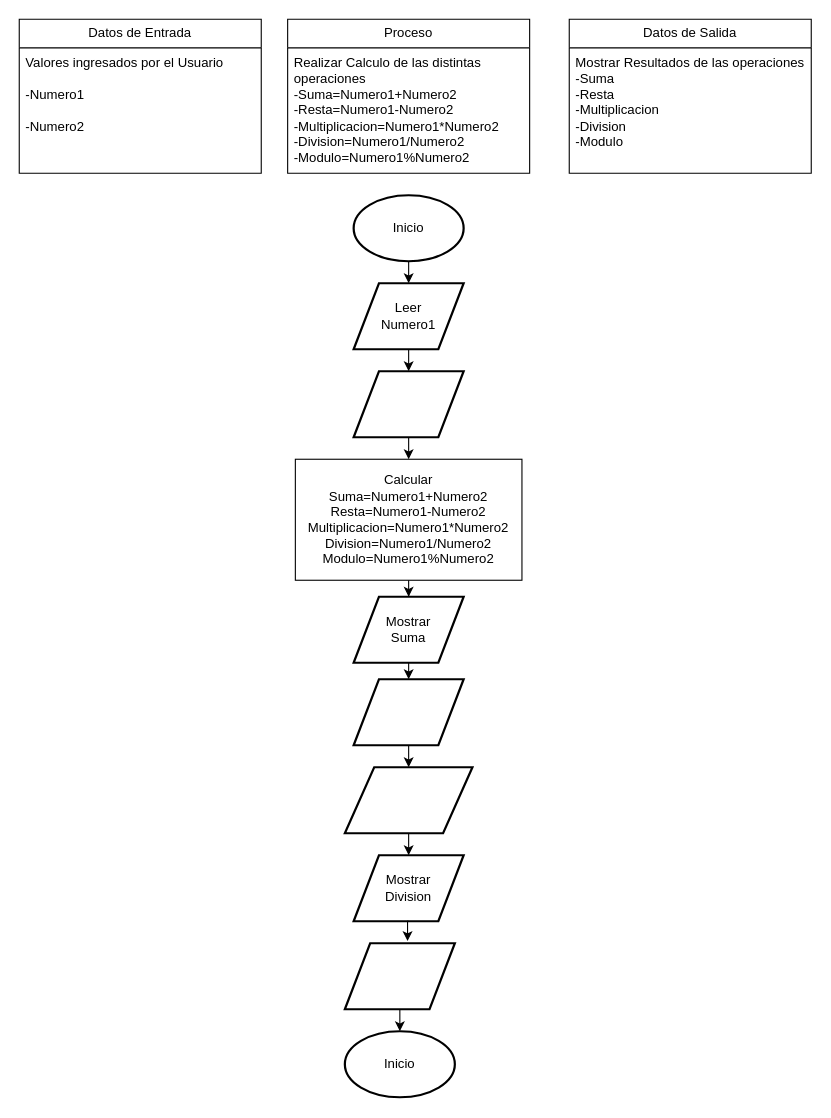
Some shapes in this 831 by 1118 pixel diagram are drawn without their labels. The centre of each missing label's shape, as x and y in pixels:
Leer Numero2: (408,404)
Mostrar Modulo: (399,976)
Mostrar Multiplicacion: (408,800)
Mostrar Resta: (408,712)
